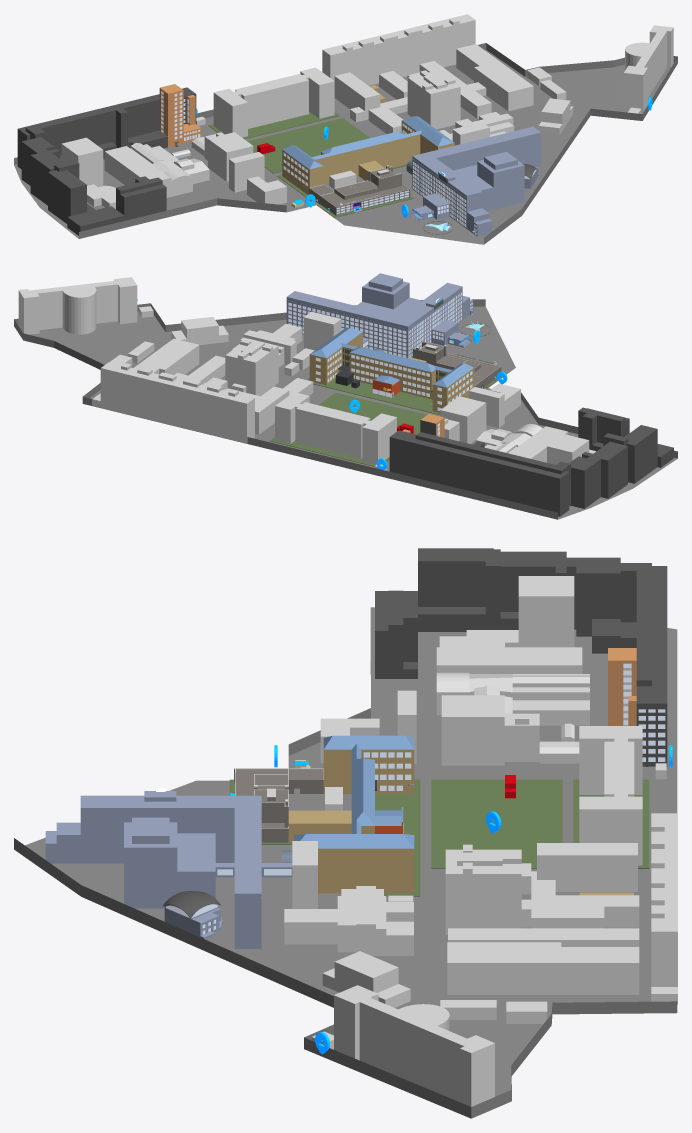
File: University_V7.gltf
The picture shows the model from 3 angles, top to bottom: view 1: azimuth 30°, elevation 25°; view 2: azimuth 150°, elevation 25°; view 3: azimuth 270°, elevation 25°; orthographic projection. The views are drawn at different scales.
Parts seen in each view (by area): view 1: Площадка, Корпус_24, Корпус_2В, ГУК-АБ, Корпус_7, Корпус_3, ГАК, Корпус_1, Корпус_5, Черепаха, ДК.001, Корпус_2А (+8 smaller); view 2: Площадка, Корпус_24, Корпус_7, ГУК-АБ, Корпус_3, Корпус_5, ГАК, Корпус_2В, Корпус_1, Черепаха, ДК.001, Корпус_10 (+7 smaller); view 3: Площадка, Корпус_24, Корпус_2В, Корпус_3, ГУК-АБ, Корпус_5, Корпус_1, Черепаха, ГАК, Корпус_4, Корпус_11, Корпус_2А (+11 smaller).
Boxes of the visible parts, x1,y1,x2,y2 form: Площадка: (14, 43, 677, 244); Корпус_24: (17, 84, 201, 235); Корпус_2В: (379, 44, 533, 129); ГУК-АБ: (410, 126, 541, 236); Корпус_7: (322, 14, 475, 85); Корпус_3: (282, 116, 454, 194); ГАК: (213, 67, 334, 137); Корпус_1: (104, 143, 209, 197); Корпус_5: (623, 25, 673, 111); Черепаха: (453, 151, 539, 211); ДК.001: (309, 165, 410, 215); Корпус_2А: (334, 72, 403, 133); Площадка: (14, 299, 677, 519); Корпус_24: (389, 407, 673, 516); Корпус_7: (92, 362, 254, 443); ГУК-АБ: (286, 282, 473, 358); Корпус_3: (309, 327, 474, 412); Корпус_5: (18, 277, 137, 334); ГАК: (275, 392, 396, 464); Корпус_2В: (133, 338, 278, 399); Корпус_1: (476, 424, 567, 462); Черепаха: (356, 273, 422, 316); ДК.001: (412, 341, 501, 388); Корпус_10: (440, 396, 486, 443); Площадка: (14, 607, 677, 1118); Корпус_24: (375, 548, 667, 766); Корпус_2В: (445, 844, 639, 994); Корпус_3: (288, 735, 414, 893); ГУК-АБ: (45, 791, 292, 948); Корпус_5: (334, 985, 494, 1106); Корпус_1: (436, 647, 589, 725); Черепаха: (124, 817, 222, 939); ГАК: (579, 726, 642, 865); Корпус_4: (284, 886, 413, 955); Корпус_11: (439, 576, 574, 647); Корпус_2А: (521, 843, 637, 894).
Size of the model in its own units: 449 by 36.88 by 246.
Materials: 28 (3 with a texture image).
